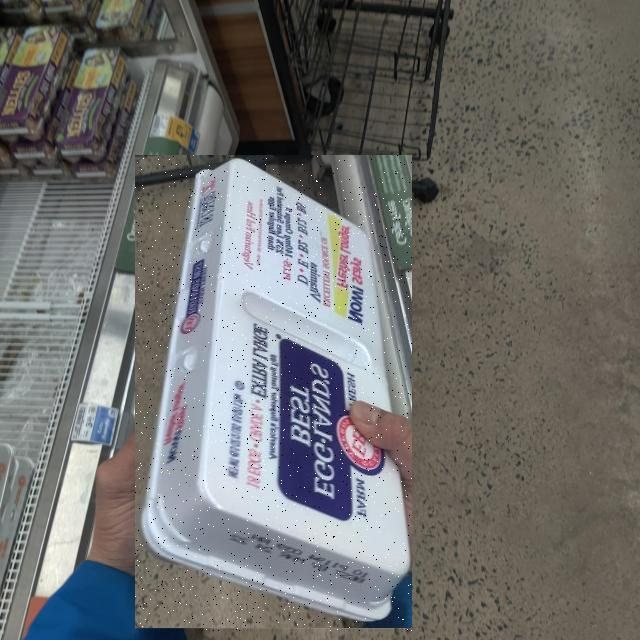Eggs: (135, 156, 412, 632)
